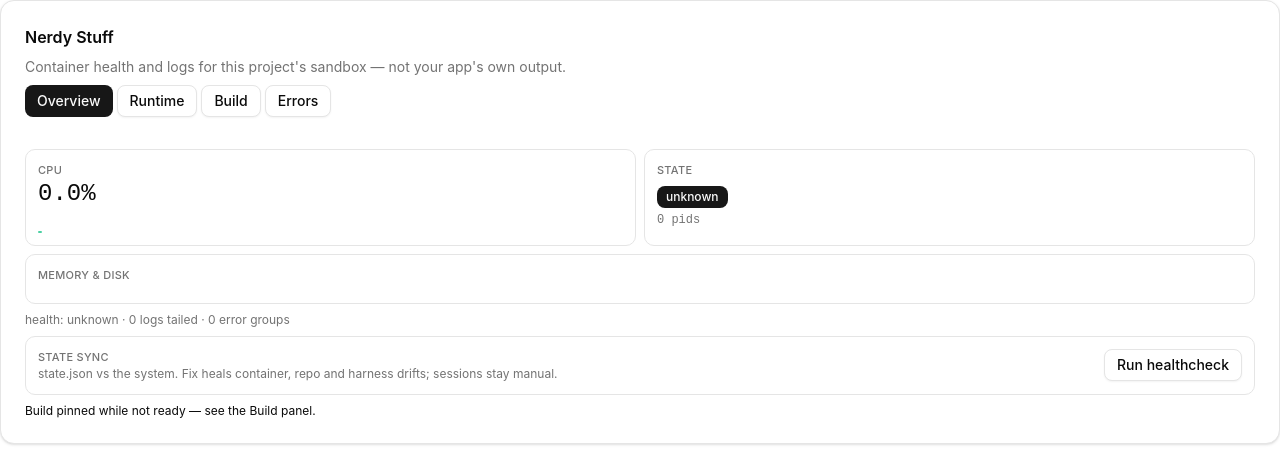
Test: NerdyStuffTab › tails the observe log
Click the tab with test id "nerdy-panel-runtime". click: (157, 101)
box: [116,85,197,117]
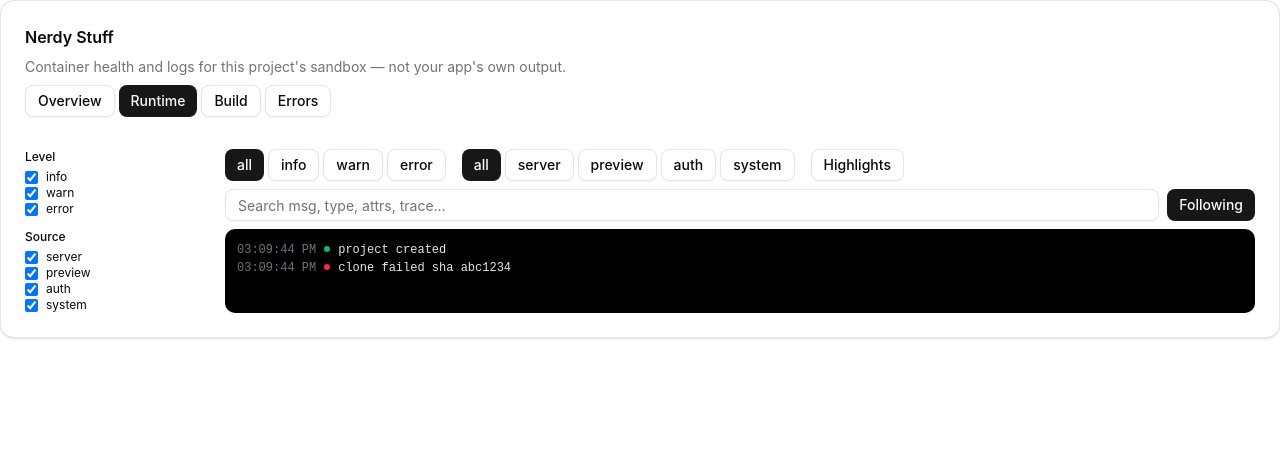
expect the element with test id "nerdy-list" is shown: met, box [225,229,1255,313]
expect the element with test id "nerdy-list" shows "project created": met, box [338,243,446,257]
expect the element with test id "nerdy-row-2" shows "clone failed": met, box [338,261,511,275]
